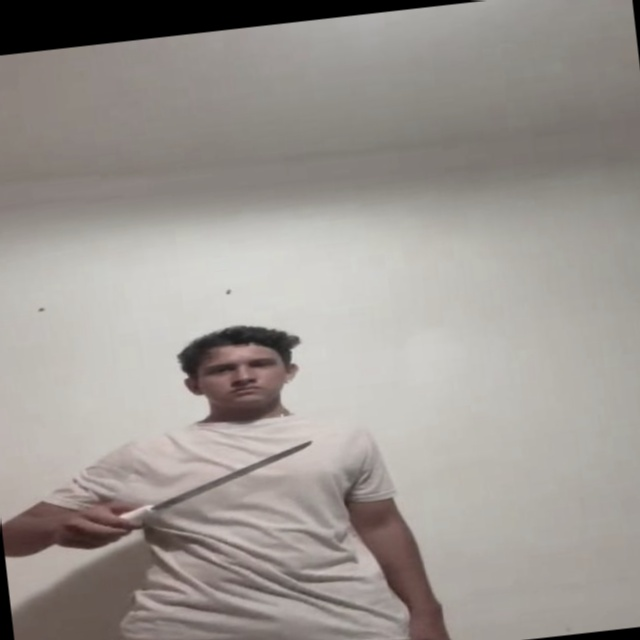Sharp-Object: (144, 437, 321, 510)
